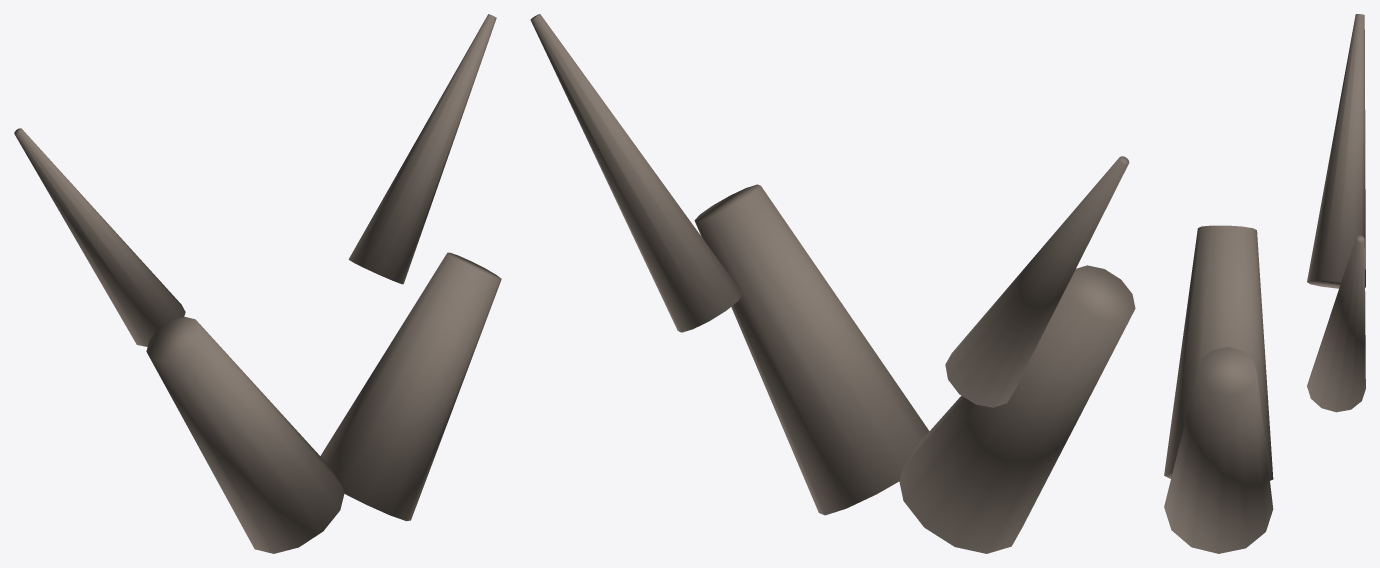
The model's file is tiefling.glb.
The picture shows the model from 3 angles, left to right: view 1: azimuth 30°, elevation 25°; view 2: azimuth 150°, elevation 25°; view 3: azimuth 270°, elevation 25°; orthographic projection. The views are drawn at different scales.
Parts seen in each view (by area): view 1: HornsTiefling; view 2: HornsTiefling; view 3: HornsTiefling.
Boxes of the visible parts, left/top/right/bottom form: HornsTiefling: left=14, top=14, right=501, bottom=553; HornsTiefling: left=530, top=14, right=1135, bottom=553; HornsTiefling: left=1164, top=14, right=1365, bottom=553.
Size of the model in its own units: 0.2367 by 0.1911 by 0.0886.
